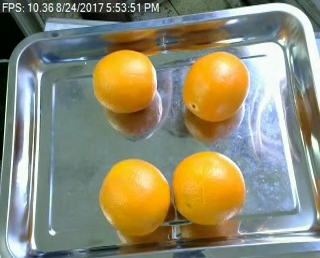Orange: (99, 157, 171, 236), (173, 151, 247, 224), (182, 51, 250, 122), (92, 49, 156, 113)
